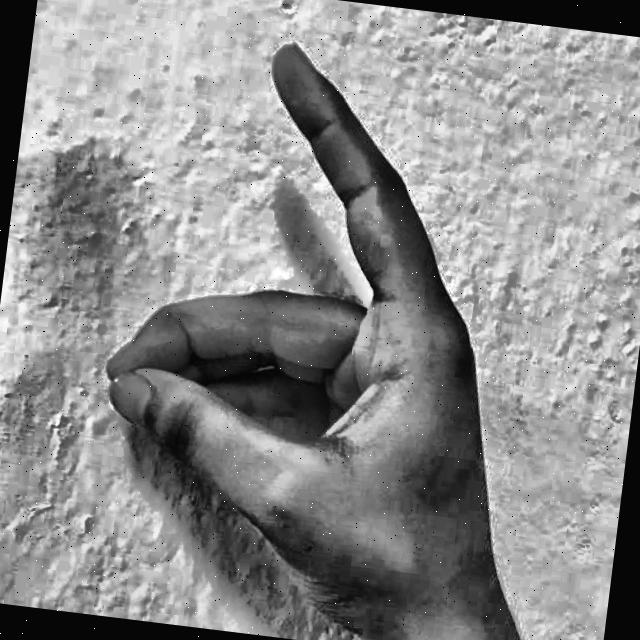Dha: (64, 7, 603, 640)
